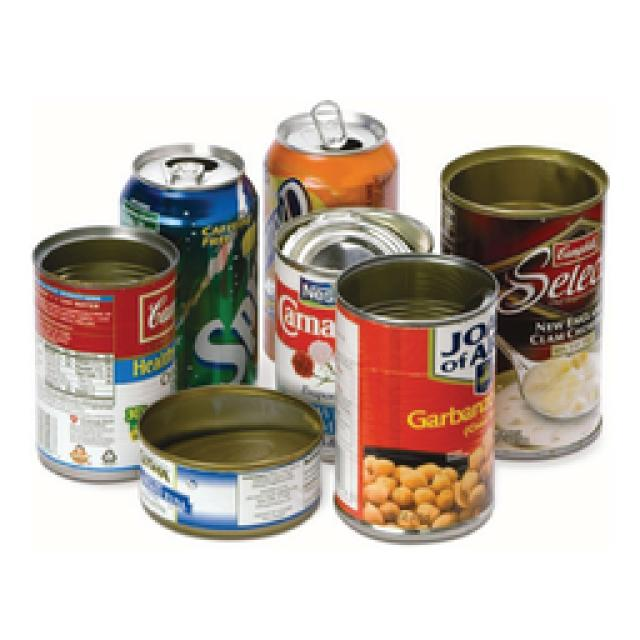alumunium: (32, 100, 605, 538)
